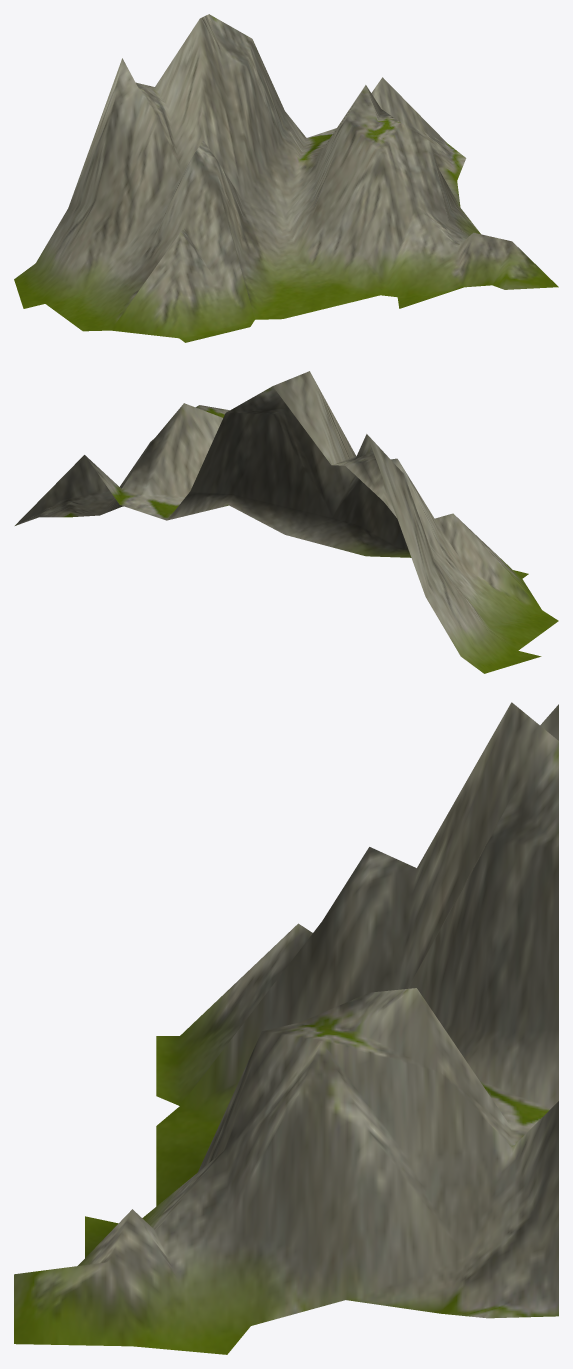
File: Terrain_18.fbx
The picture shows the model from 3 angles, top to bottom: view 1: azimuth 30°, elevation 25°; view 2: azimuth 150°, elevation 25°; view 3: azimuth 270°, elevation 25°; orthographic projection. The views are drawn at different scales.
Parts seen in each view (by area): view 1: Terrain_18; view 2: Terrain_18; view 3: Terrain_18.
Part boxes in pixels (left/top/right/bottom): Terrain_18: left=14, top=14, right=558, bottom=342; Terrain_18: left=15, top=371, right=558, bottom=673; Terrain_18: left=14, top=702, right=558, bottom=1354.
Bounding box in the file's own units: 33.94 × 16.33 × 18.59.
